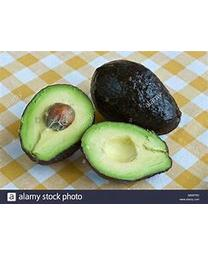avocado: (89, 59, 183, 138), (18, 84, 95, 166), (80, 120, 173, 184)
